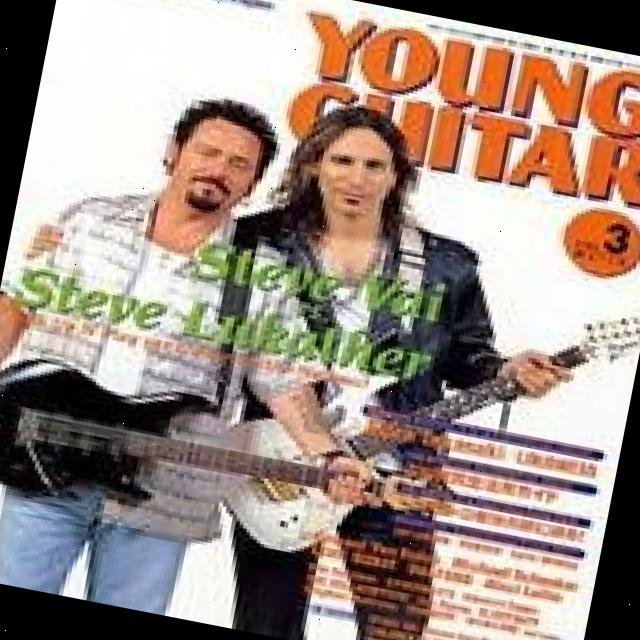guitar: (204, 238, 640, 611), (0, 353, 455, 570)
